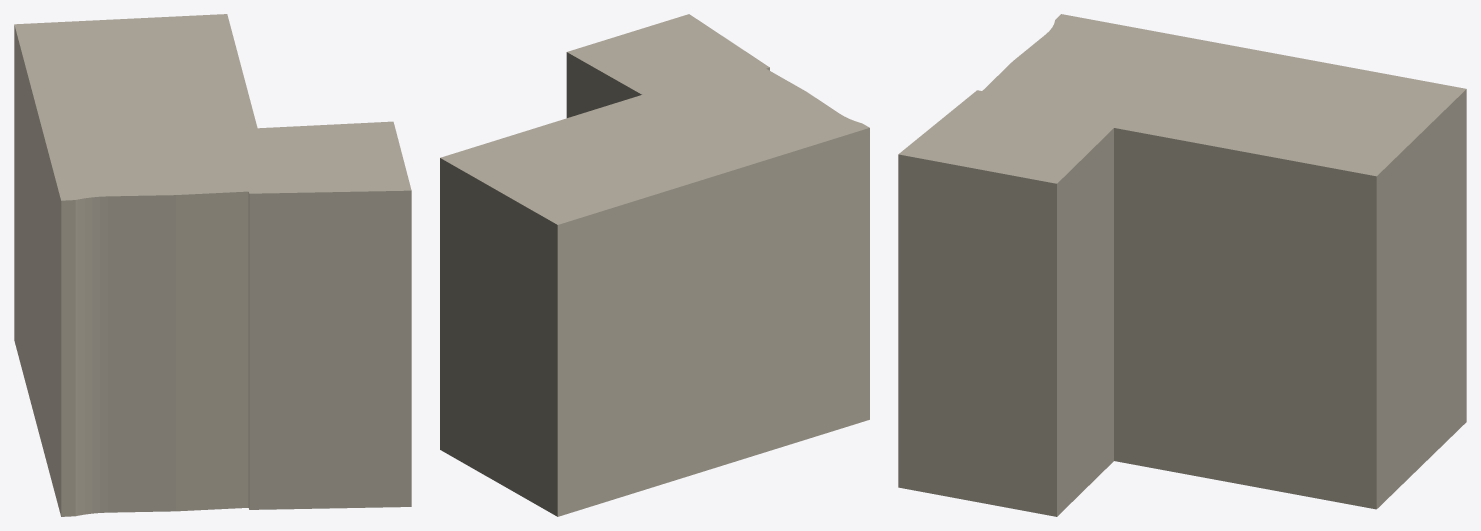
File: bormla_67_29_mid.glb
The picture shows the model from 3 angles, left to right: view 1: azimuth 30°, elevation 25°; view 2: azimuth 150°, elevation 25°; view 3: azimuth 270°, elevation 25°; orthographic projection. The views are drawn at different scales.
Visible parts, largest first — view 1: geometry_0; view 2: geometry_0; view 3: geometry_0.
Boxes of the visible parts, x1,y1,x2,y2 form: geometry_0: (14, 14, 411, 516); geometry_0: (440, 14, 869, 516); geometry_0: (898, 14, 1466, 516).
Size of the model in its own units: 11.92 by 10.91 by 16.86.
